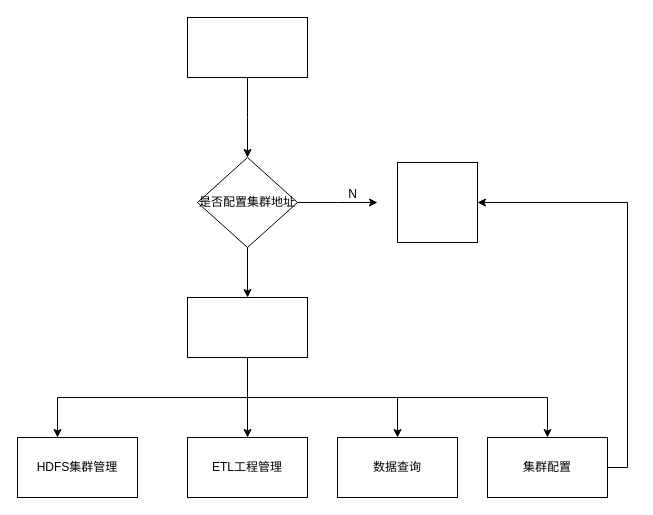
Image size: 653x515. Some labels were removed from this diagram. The shapes that lost their labels are listed below. From the top down, each one's centre as x and y in pixels, then its label:
At (x=247, y=47): "打开浏览器 进入平台".
At (x=437, y=202): "配置集群地址".
At (x=247, y=327): "导航切换 进入不同页面".
